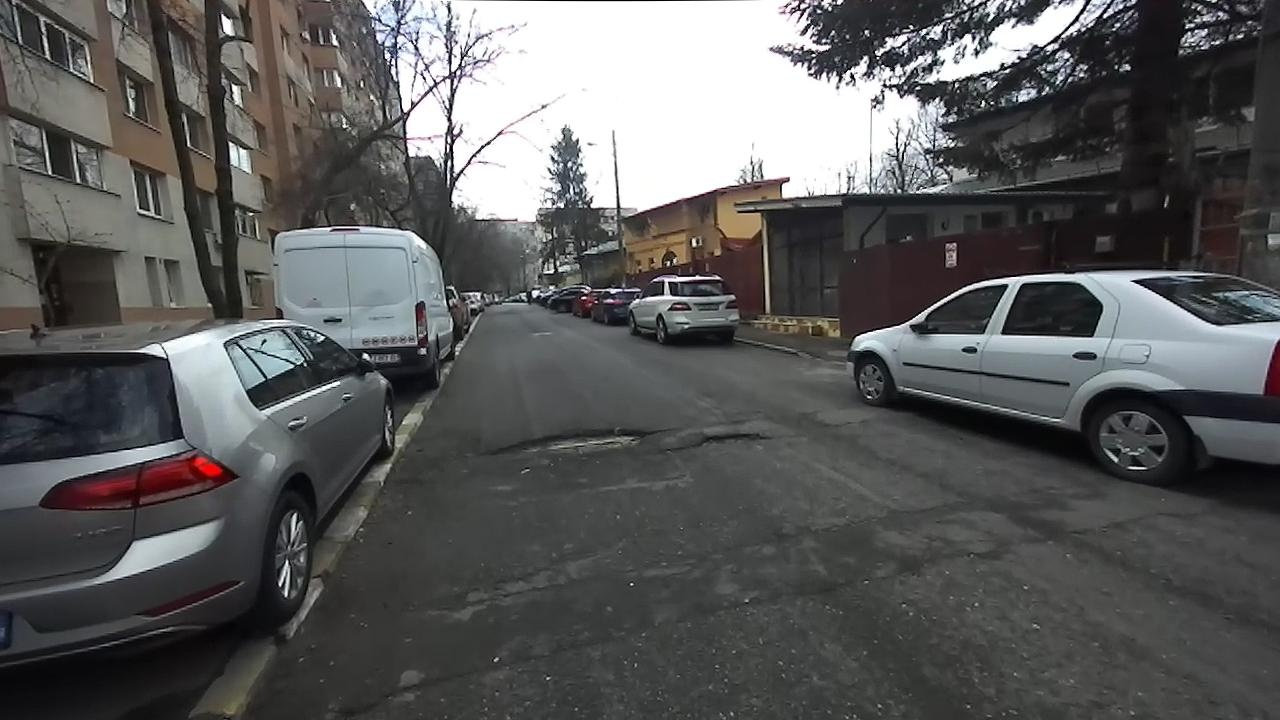pothole: (482, 424, 659, 465), (684, 429, 773, 453)
